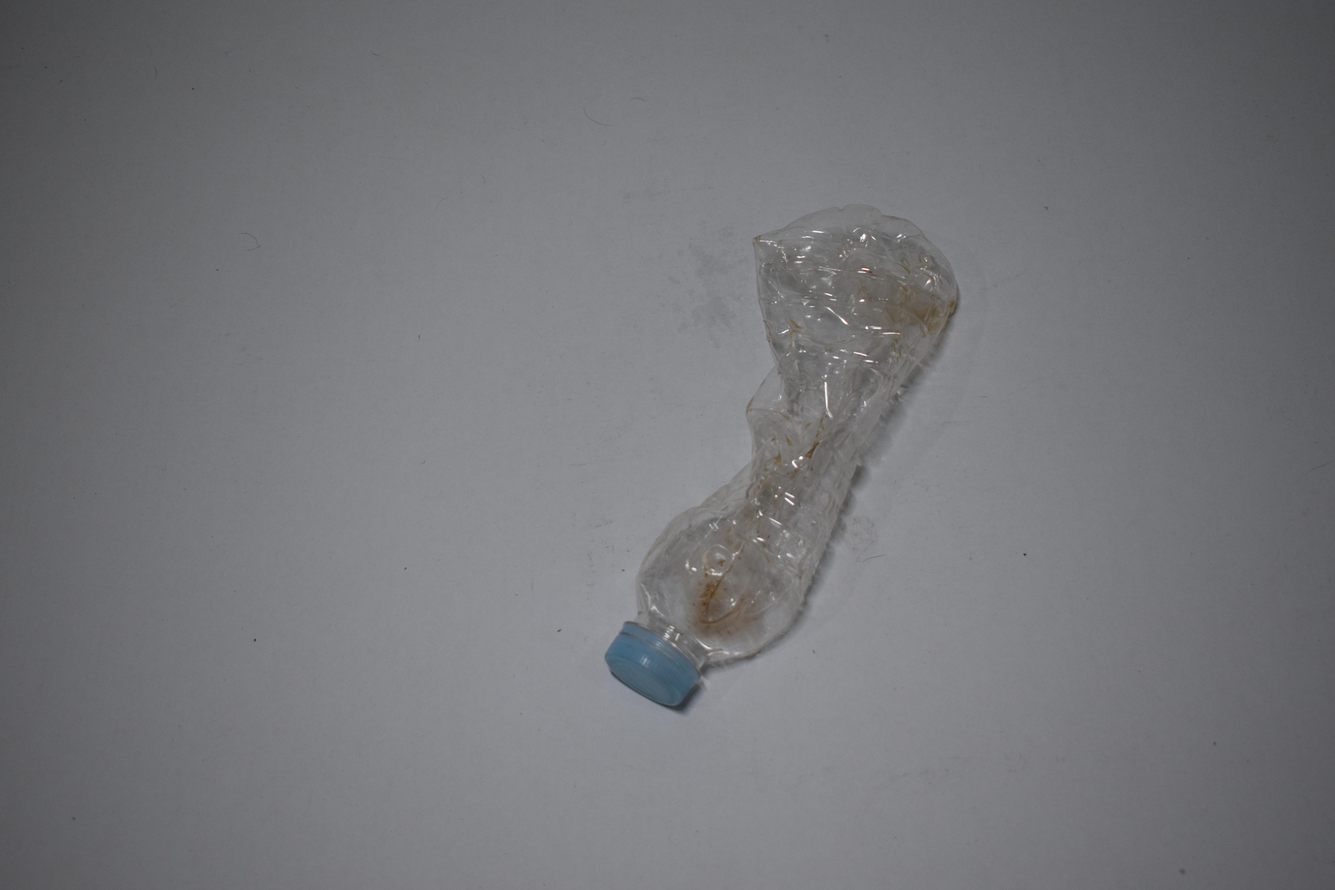plastic: (603, 205, 966, 715)
